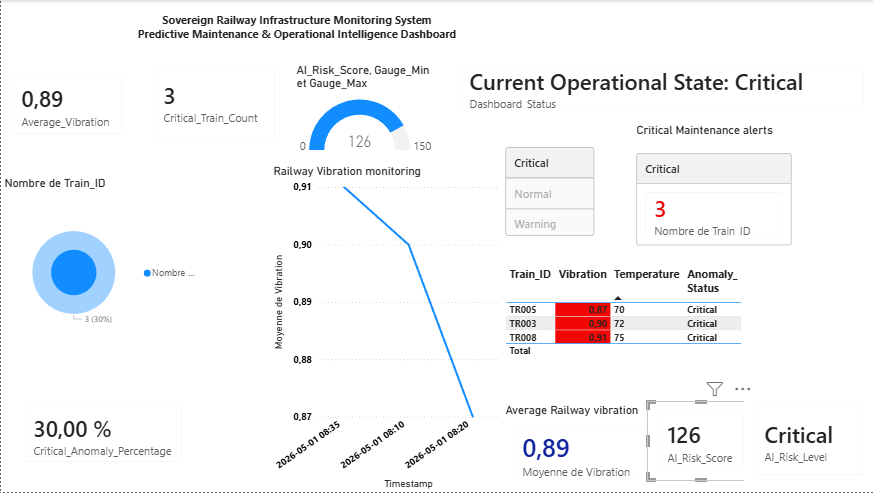

What the dashboard file says about the page in this screenshot:
{"tool":"powerbi","page":{"name":"Page 1","canvas":[1280,720],"ordinal":0},"visuals":[{"type":"lineChart","title":" Railway Vibration monitoring ","fields":{"Y":["Avg(railway_data.Vibration)"],"Category":["railway_data.Timestamp"]},"box":[393.7,240,339.5,480],"z":0},{"type":"cardVisual","title":"Critical Maintenance alerts","fields":{"Data":["CountNonNull(railway_data.Train_ID)"],"Rows":["railway_data.Anomaly_Status"]},"box":[924.9,180,237.1,204.9],"z":1000},{"type":"cardVisual","title":"Average Railway vibration","fields":{"Data":["Avg(railway_data.Vibration)"]},"box":[733.2,589.8,232.7,130.2],"z":2000},{"type":"pieChart","fields":{"Y":["CountNonNull(railway_data.Train_ID)"]},"box":[0,257.6,300,263.4],"z":3000},{"type":"textbox","box":[180,13.2,506.3,79],"z":4000},{"type":"tableEx","fields":{"Values":["railway_data.Train_ID","railway_data.Vibration","railway_data.Temperature","railway_data.Anomaly_Status"]},"box":[733.2,383.4,519.5,206.3],"z":5000},{"type":"cardVisual","fields":{"Rows":["railway_data.Anomaly_Status"]},"box":[733.2,190.2,140.5,182.9],"z":6000},{"type":"cardVisual","fields":{"Data":["railway_data.Critical_Train_Count"]},"box":[207.8,79,210.7,139],"z":7000},{"type":"cardVisual","fields":{"Data":["railway_data.Average_Vibration"]},"box":[0,95.1,193.2,118.5],"z":8000},{"type":"cardVisual","fields":{"Data":["railway_data.Critical_Anomaly_Percentage"]},"box":[17.6,578,264.9,115.6],"z":9000},{"type":"cardVisual","fields":{"Data":["railway_data.AI_Risk_Score"]},"box":[951.2,578,159.5,117.1],"z":10000},{"type":"cardVisual","fields":{"Data":["railway_data.AI_Risk_Level"]},"box":[1087.3,569.3,193.2,134.6],"z":11000},{"type":"gauge","fields":{"Y":["railway_data.AI_Risk_Score"],"MinValue":["railway_data.Gauge_Min"],"MaxValue":["railway_data.Gauge_Max"]},"box":[427.3,92.2,212.2,147.8],"z":12000},{"type":"cardVisual","fields":{"Data":["railway_data.Dashboard_Status"]},"box":[655.6,79,624.9,98],"z":13000}]}

Visuals, with their boxes in screenshot pixels (x1, y1, x2, y2), scaled from the page's 1280x720 canvas onto the 873x493 screenshot:
" Railway Vibration monitoring " lineChart: 269 164 500 492
"Critical Maintenance alerts" cardVisual: 631 123 793 264
"Average Railway vibration" cardVisual: 500 404 659 492
pieChart - CountNonNull(railway_data.Train_ID): 0 176 205 357
textbox: 123 9 468 63
tableEx - railway_data.Train_ID x railway_data.Vibration: 500 263 854 404
cardVisual - railway_data.Anomaly_Status: 500 130 596 255
cardVisual - railway_data.Critical_Train_Count: 142 54 285 149
cardVisual - railway_data.Average_Vibration: 0 65 132 146
cardVisual - railway_data.Critical_Anomaly_Percentage: 12 396 193 475
cardVisual - railway_data.AI_Risk_Score: 649 396 758 476
cardVisual - railway_data.AI_Risk_Level: 742 390 872 482
gauge - railway_data.AI_Risk_Score x railway_data.Gauge_Min: 291 63 436 164
cardVisual - railway_data.Dashboard_Status: 447 54 872 121
